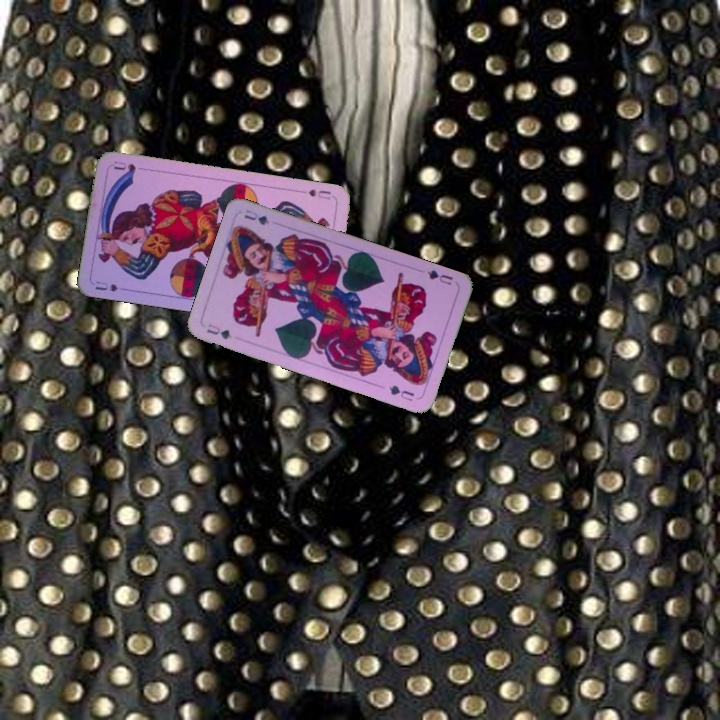GU: (203, 320, 234, 342), (423, 266, 455, 287)
SU: (91, 277, 132, 294), (305, 185, 333, 202)
